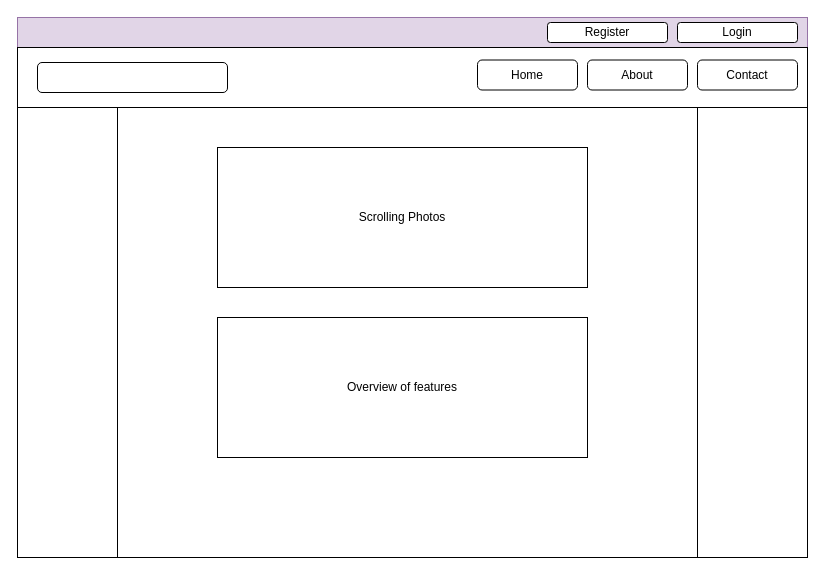
Image size: 825x575. Some labels were removed from this diagram. Here are the shapes that lost their labels. From the top down, the box of each, then its label:
(16, 16, 808, 48): Main Nav Bar
(36, 62, 228, 92): Logo
